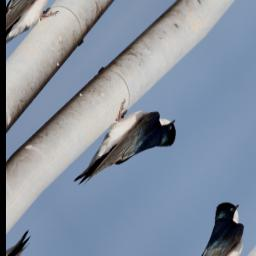Swallow: (61, 78, 184, 220)
